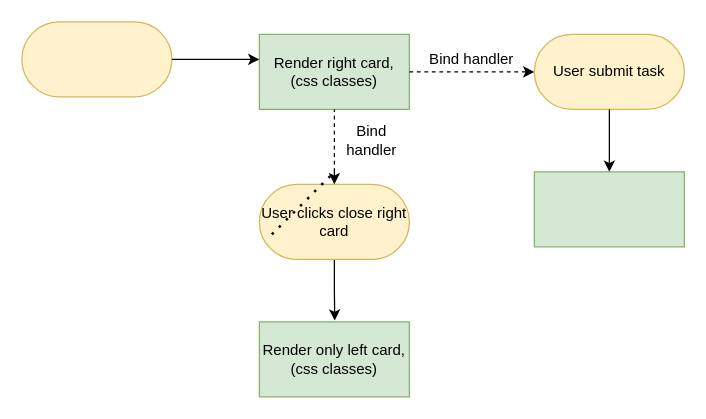
The diagram is 706 pixels wide and 419 high, and some of its shapes have lost their labels. The centre of each missing label's shape, as x and y in pixels:
"Render tasks" goes at pixel 608 209.
"User clicks add new task" goes at pixel 96 59.
